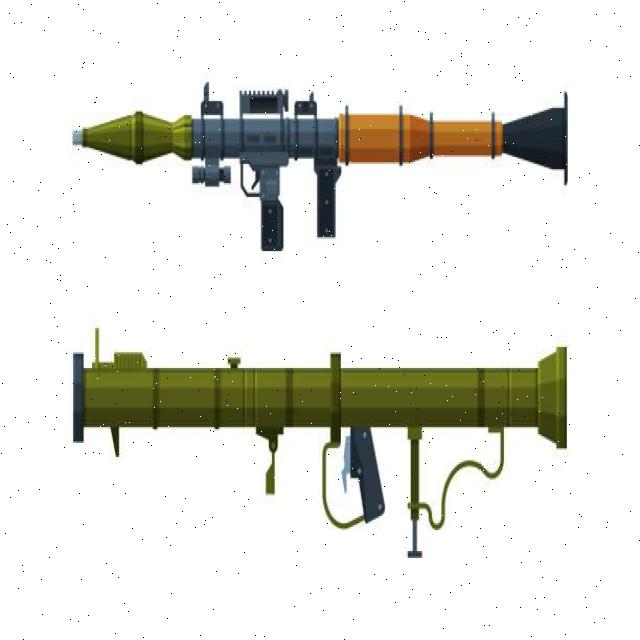bazooka: (59, 315, 580, 583)
